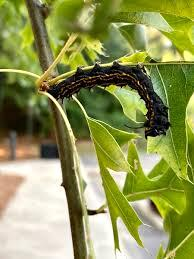Caterpillar: (45, 63, 171, 145)
